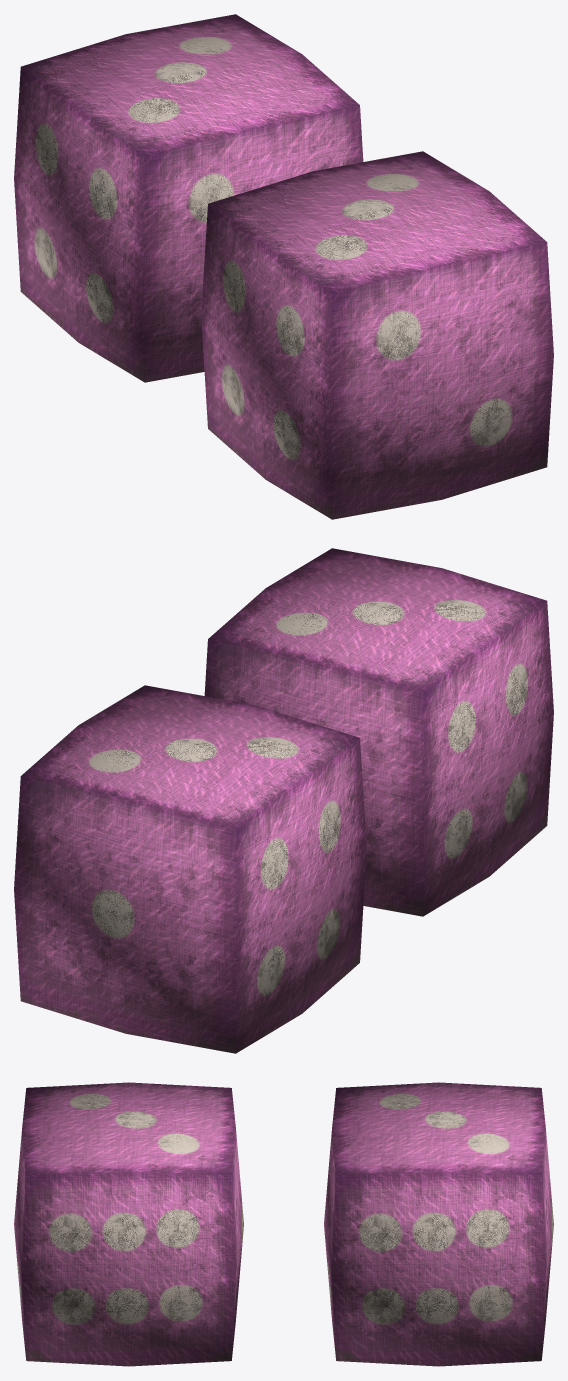
Rendered from fuzzydice.glb.
3 renders of one model, top to bottom at view 1: azimuth 30°, elevation 25°; view 2: azimuth 150°, elevation 25°; view 3: azimuth 270°, elevation 25°, orthographic. The views are drawn at different scales.
Parts seen in each view (by area): view 1: dice_low.001, dice_low; view 2: dice_low, dice_low.001; view 3: dice_low, dice_low.001.
Boxes of the visible parts, <box> form: dice_low.001: <box>201,151,553,519</box>; dice_low: <box>14,14,363,382</box>; dice_low: <box>14,685,366,1053</box>; dice_low.001: <box>204,548,553,916</box>; dice_low: <box>324,1082,553,1366</box>; dice_low.001: <box>14,1082,243,1366</box>.
Bounding box in the file's own units: 2 × 2 × 4.69.
1 material, 1 textured.
